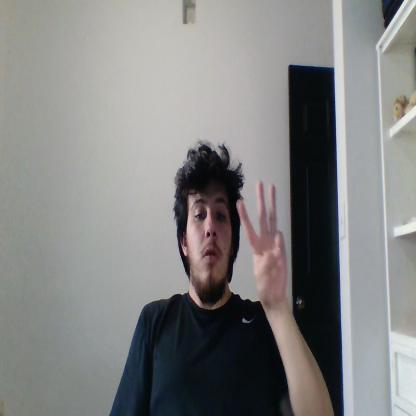W: (236, 179, 286, 306)
